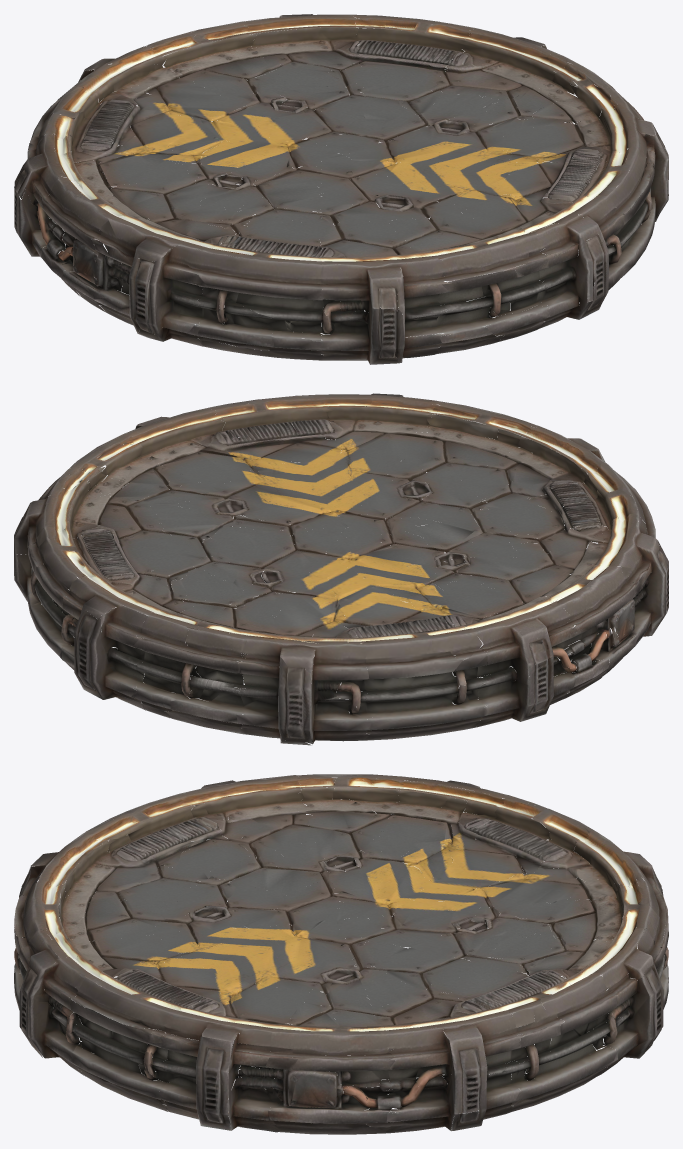
File: landing_pad.glb
3 views of the same model, one above another, from view 1: azimuth 30°, elevation 25°; view 2: azimuth 150°, elevation 25°; view 3: azimuth 270°, elevation 25° (orthographic). The views are drawn at different scales.
Parts seen in each view (by area): view 1: tripo_node_efc7c2da-28e3-47fe-8eb3-7a67ee0c6fad; view 2: tripo_node_efc7c2da-28e3-47fe-8eb3-7a67ee0c6fad; view 3: tripo_node_efc7c2da-28e3-47fe-8eb3-7a67ee0c6fad.
Part boxes in pixels (x1=…): tripo_node_efc7c2da-28e3-47fe-8eb3-7a67ee0c6fad: x1=14, y1=14, x2=668, y2=364; tripo_node_efc7c2da-28e3-47fe-8eb3-7a67ee0c6fad: x1=14, y1=393, x2=668, y2=745; tripo_node_efc7c2da-28e3-47fe-8eb3-7a67ee0c6fad: x1=14, y1=774, x2=668, y2=1134.
Size of the model in its own units: 0.9656 by 0.1638 by 0.9653.
Materials: 1 (1 with a texture image).
